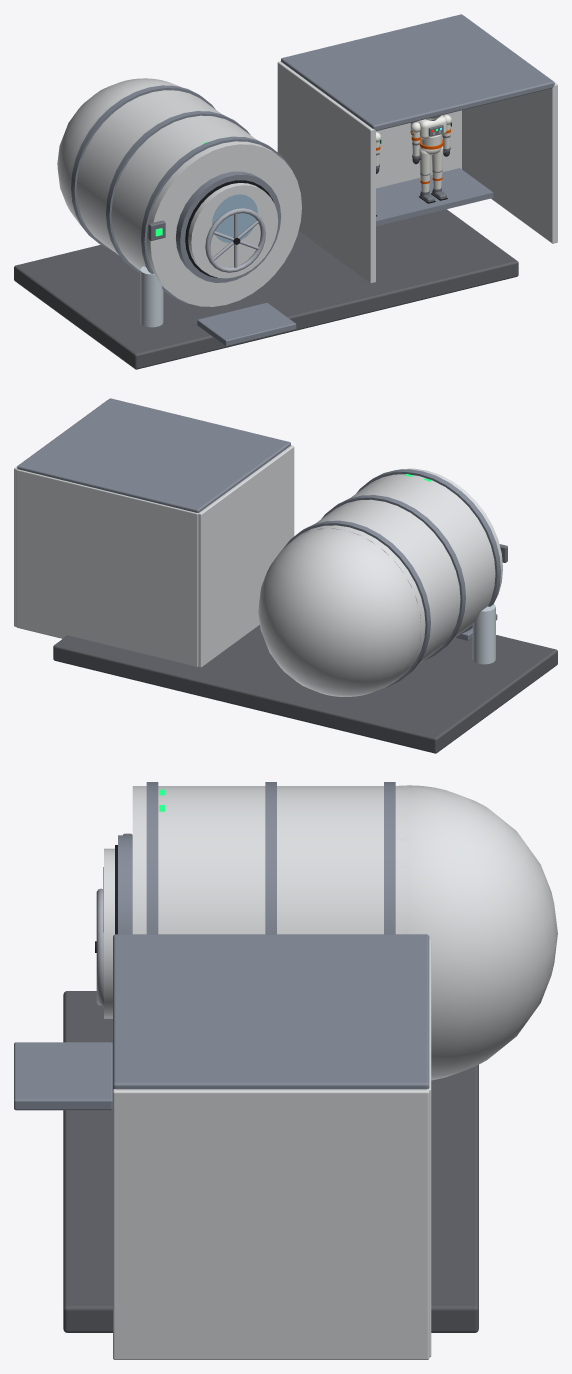
The model's file is airlock_suit_station.glb.
3 renders of one model, top to bottom at view 1: azimuth 30°, elevation 25°; view 2: azimuth 150°, elevation 25°; view 3: azimuth 270°, elevation 25°, orthographic. The views are drawn at different scales.
Visible parts, largest first — view 1: SUI_Body, HatchPivot; view 2: SUI_Body; view 3: SUI_Body, HatchPivot.
Boxes of the visible parts, x1=… form: SUI_Body: x1=14, y1=14, x2=557, y2=369; HatchPivot: x1=188, y1=183, x2=278, y2=278; SUI_Body: x1=14, y1=398, x2=557, y2=753; SUI_Body: x1=14, y1=782, x2=557, y2=1359; HatchPivot: x1=95, y1=848, x2=114, y2=1018.
Bounding box in the file's own units: 8.66 × 3.49 × 5.5.
